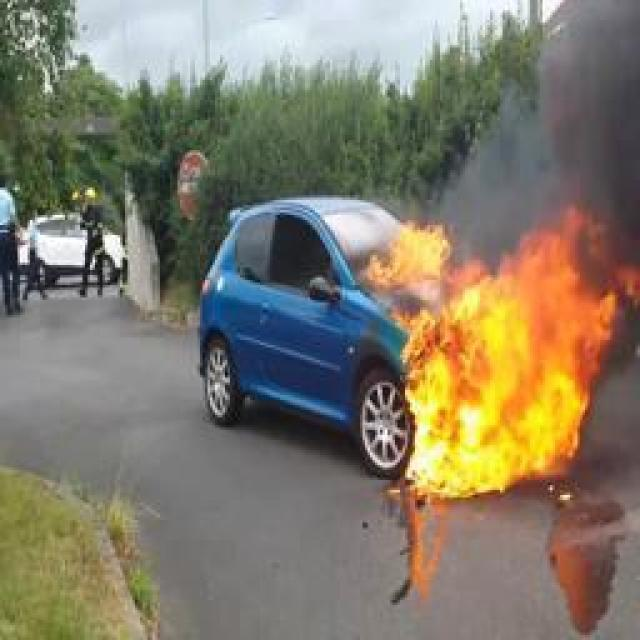Fire: (367, 207, 640, 497), (365, 224, 450, 286)
